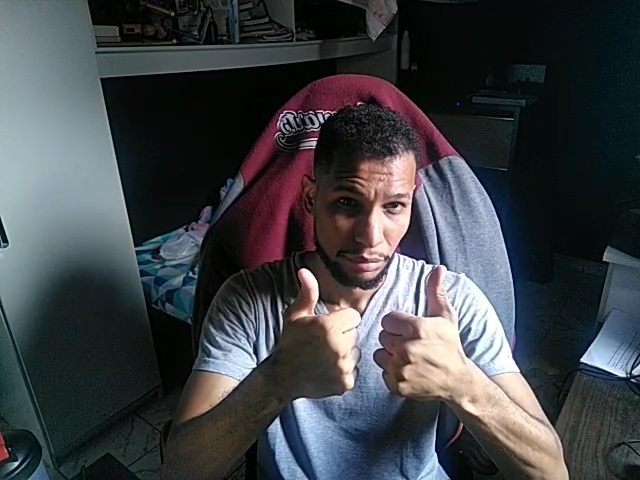sim: (263, 264, 368, 403), (371, 264, 473, 405)
